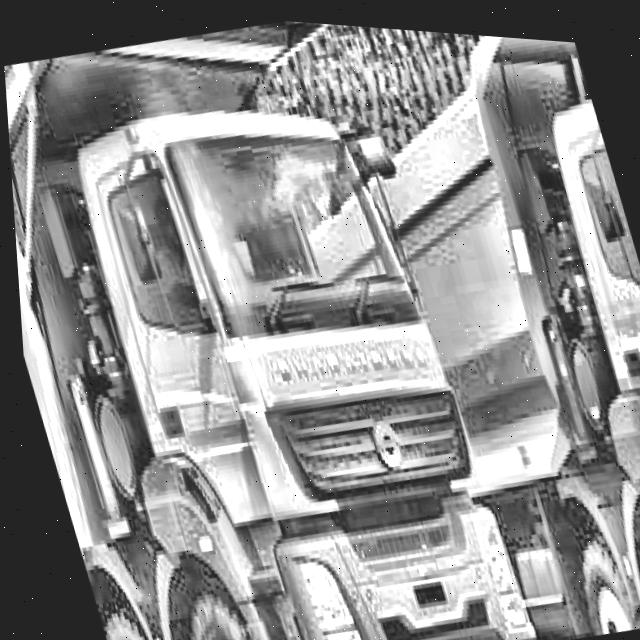dump_truck: (0, 0, 545, 640), (346, 20, 640, 640)
